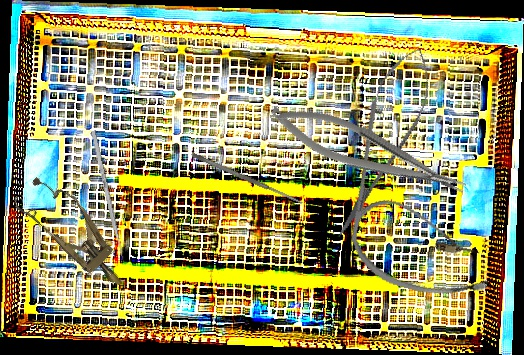Cannula: (342, 192, 503, 309)
Micro Scissor: (321, 39, 445, 249)
Needle Holder: (263, 89, 472, 215)
Pusher: (90, 130, 127, 265)
Spatula Surgical: (190, 151, 305, 207)
Speculum: (8, 167, 140, 302)
